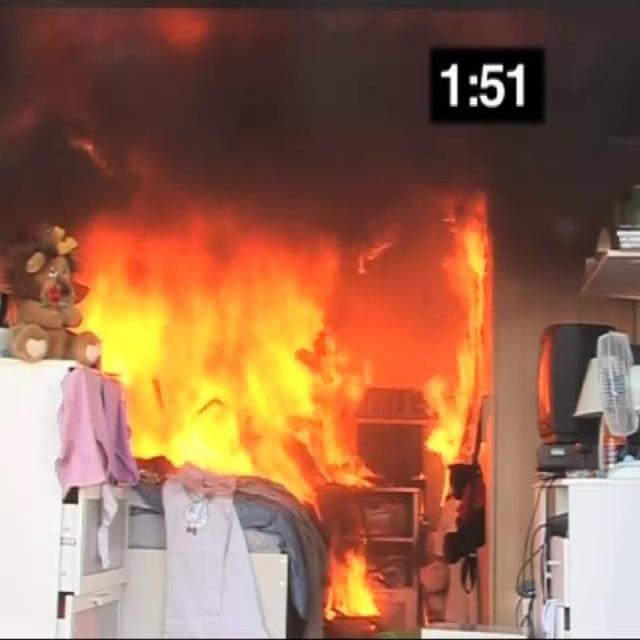fire: (67, 164, 514, 497)
